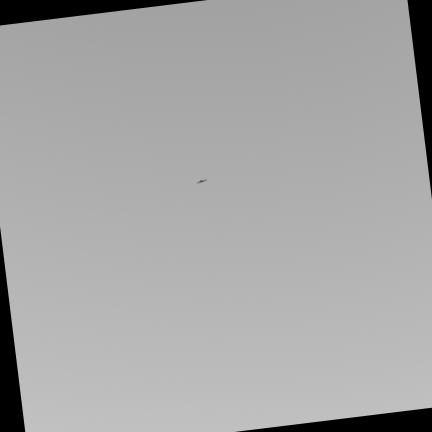Shahed: (197, 179, 205, 182)
